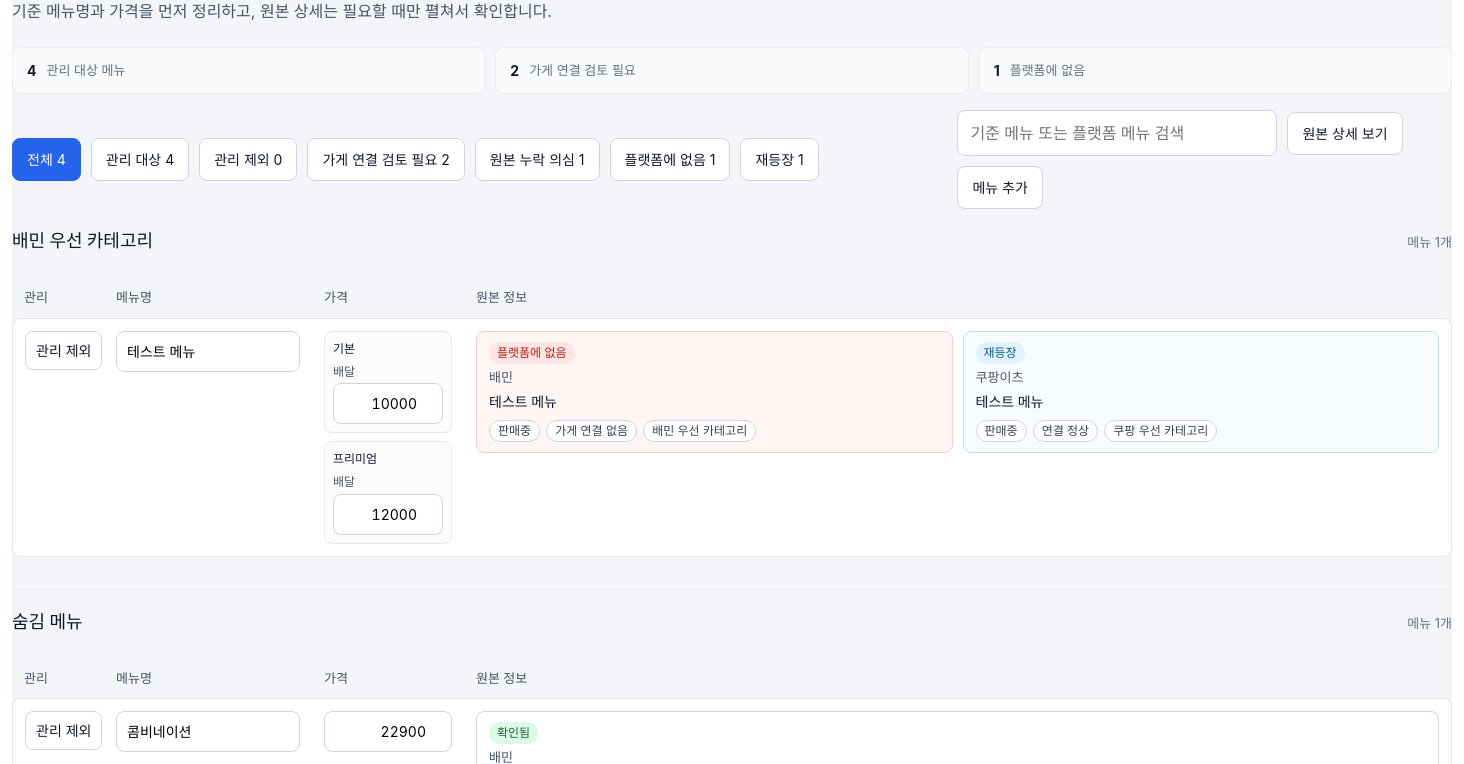
Test case: MenuPage › keeps source details collapsed until the operator opens them
Expected: the text "배민" in the row of "쿠팡이츠" is shown, [489,368,513,384]
Expected: the text "확인됨" is shown, [489,722,538,744]
Click the button "원본 상세 보기" at (1345, 133), box [1287,112,1403,154]
(page scrolled)
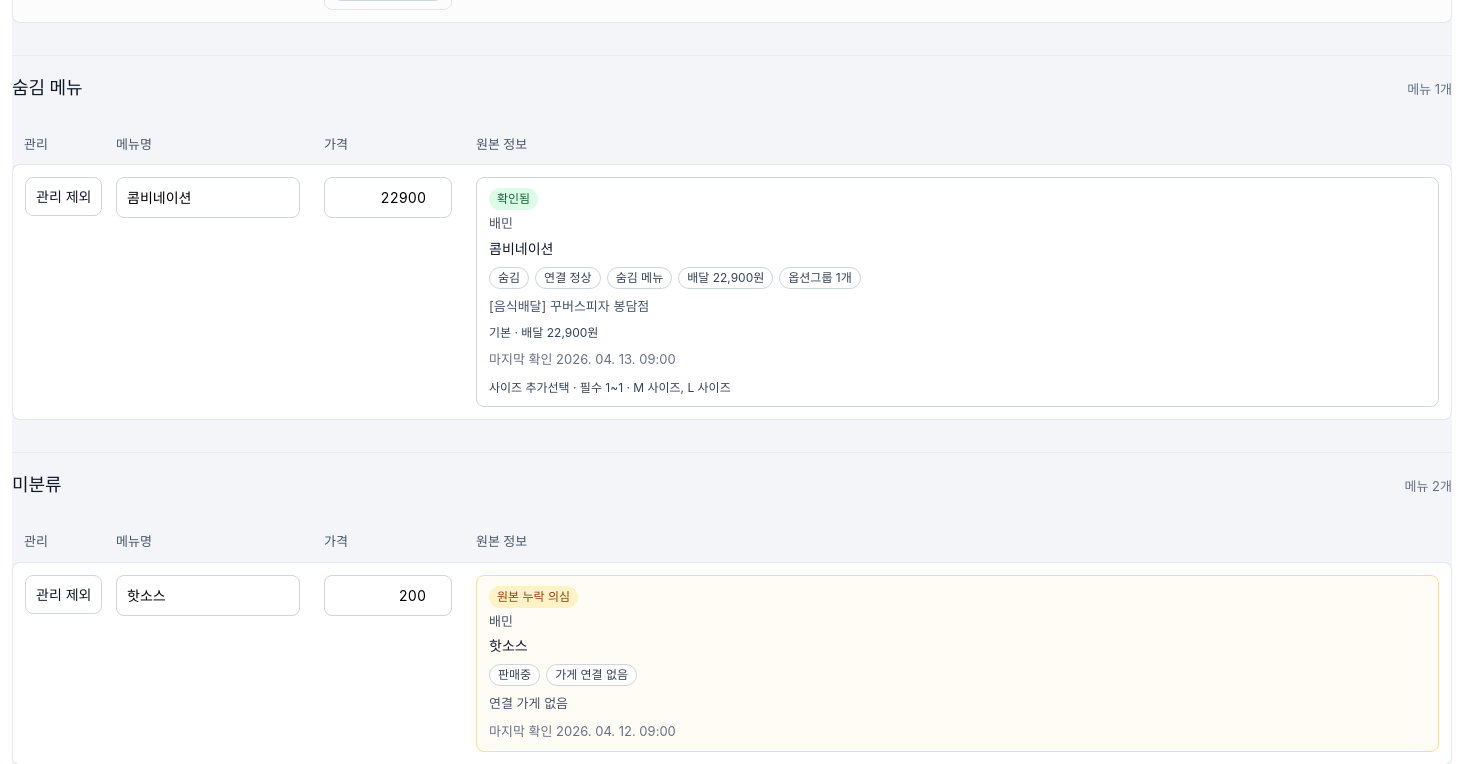
Now the text "기본 · 배달 22,900원" is shown, box [489,325,598,340]
Now the text "[음식배달] 꾸버스피자 봉담점" is shown, box [489,298,649,314]
Now the text "마지막 확인 2026. 04. 13. 09:00" is shown, box [489,351,676,367]
